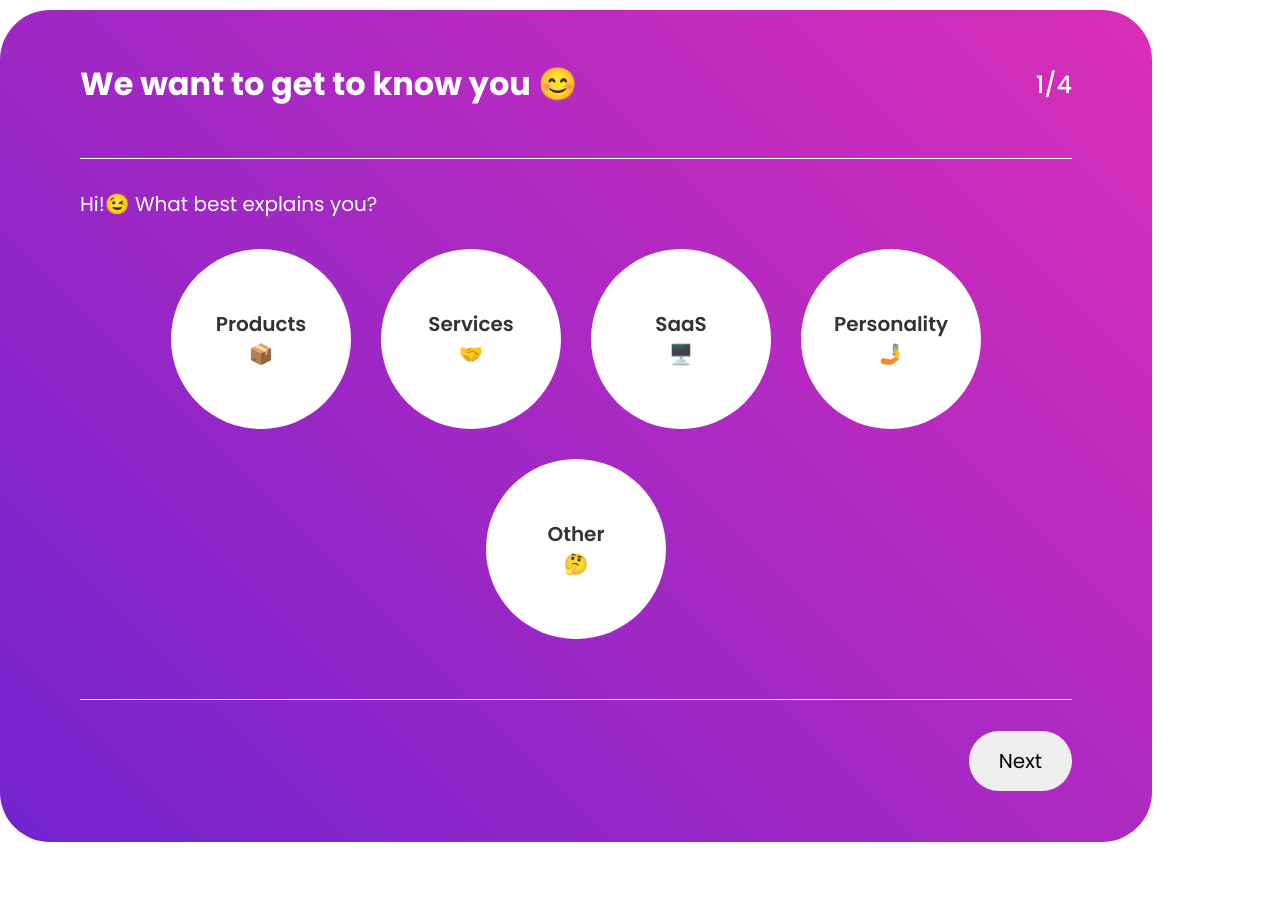
Test: Customer Component › should back to the previous page when clicking on the back button
This screenshot has width=1280, height=900.
What coordinates should you click on to do the following:
click the button with test id "next"
I would click on:
 (1020, 761)
Its box is [969, 731, 1072, 791].
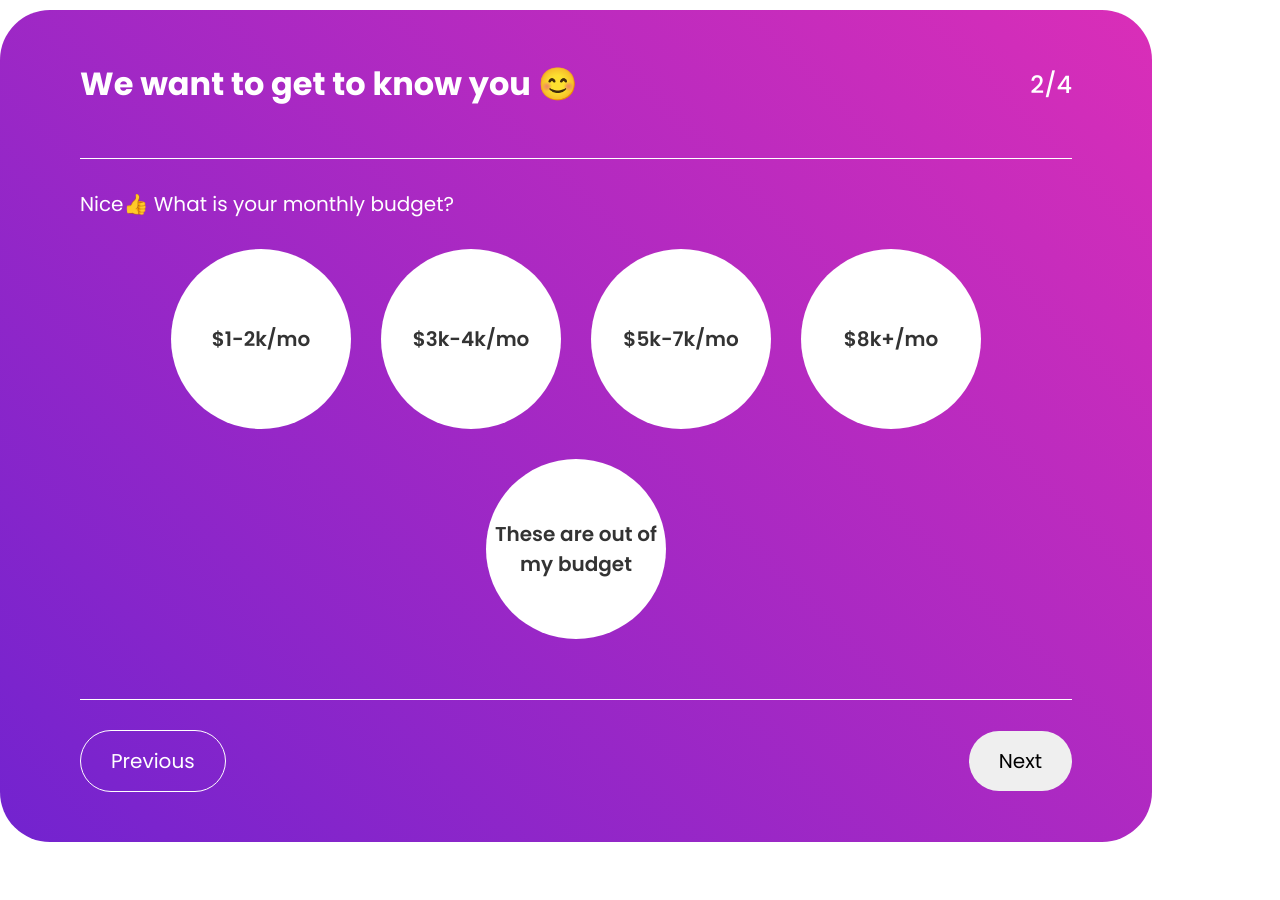
Check: the heading "Hi!😉 What best explains you?" is gone
What coordinates should you click on to do the following:
click the button with test id "back"
I would click on:
 (153, 761)
Its box is [80, 730, 226, 792].
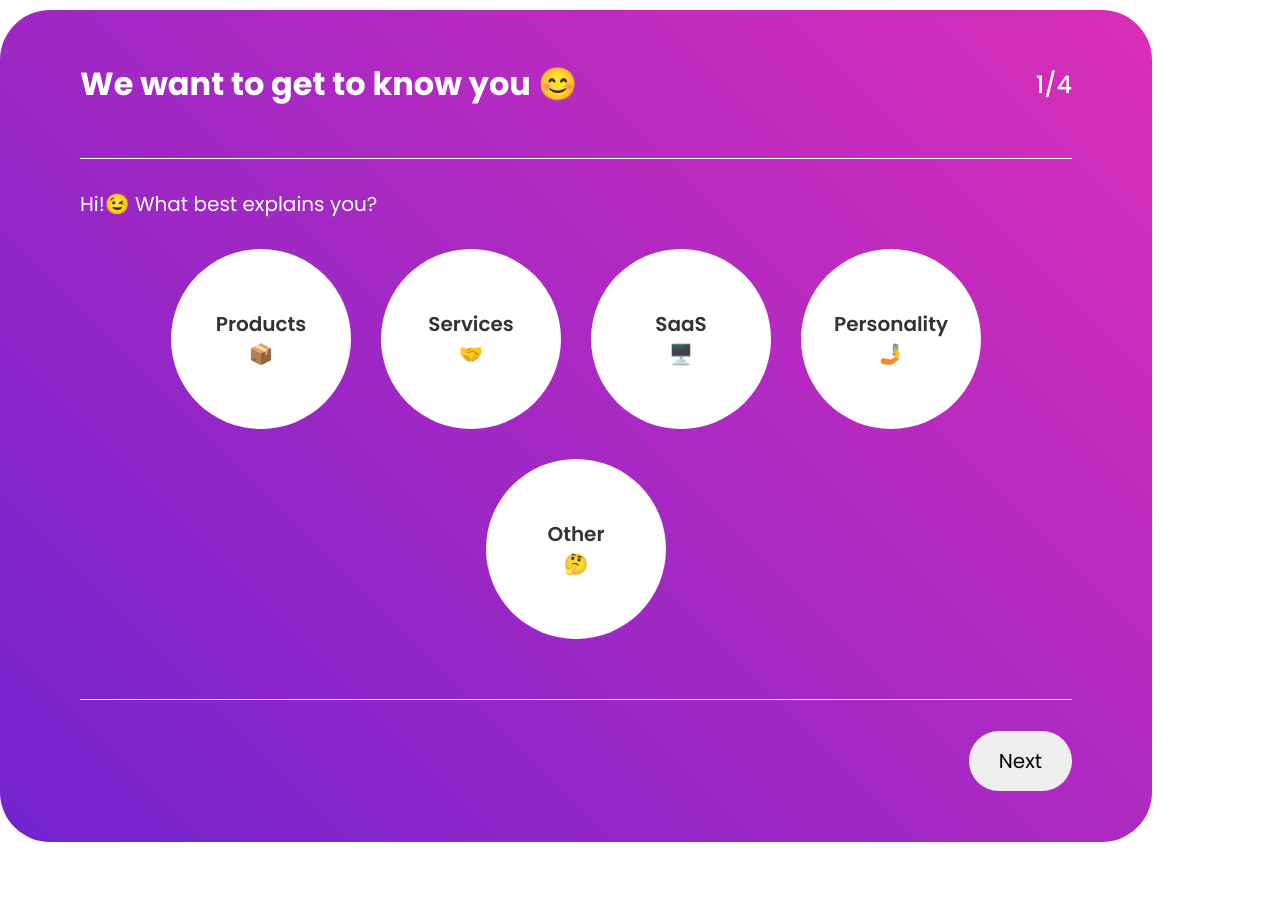
Check: the heading "Hi!😉 What best explains you?" is shown, box [80, 190, 377, 218]
Check: the text "Products" is shown, box [216, 309, 306, 339]
Check: the text "Services" is shown, box [428, 309, 514, 339]
